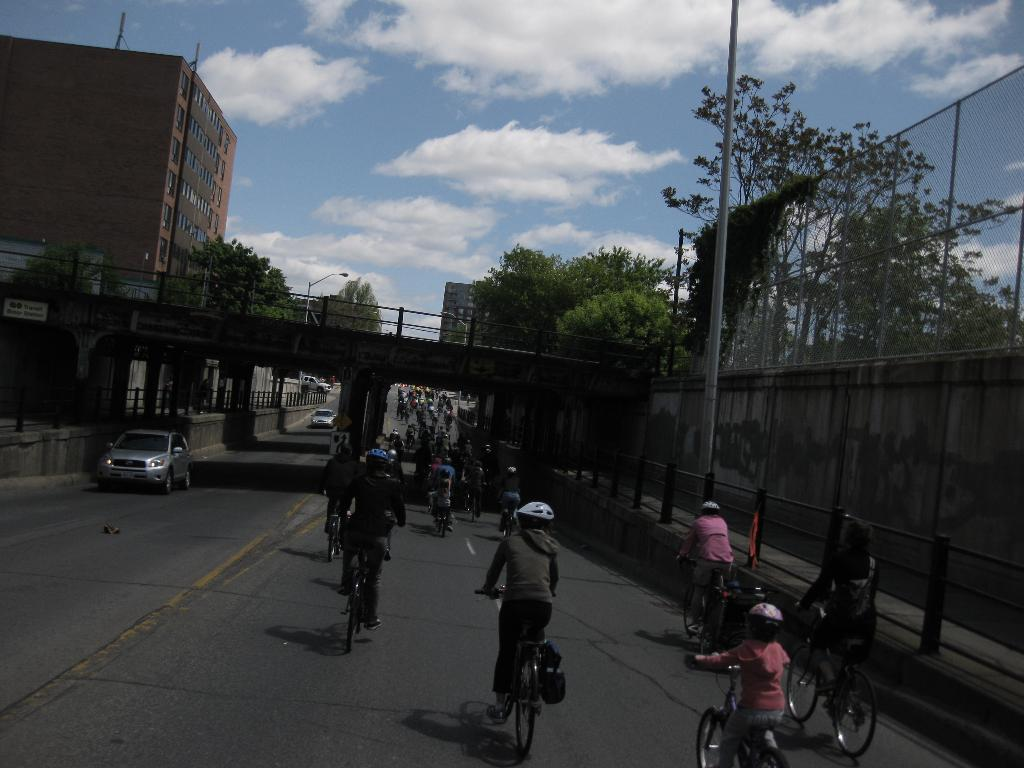bicycle: (319, 400, 521, 650), (787, 600, 881, 760), (688, 648, 794, 767), (472, 585, 547, 751), (678, 555, 733, 661)
